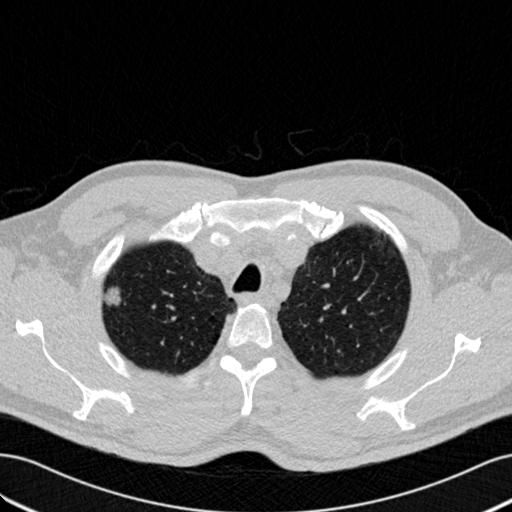nodule: (102, 286, 124, 308)
